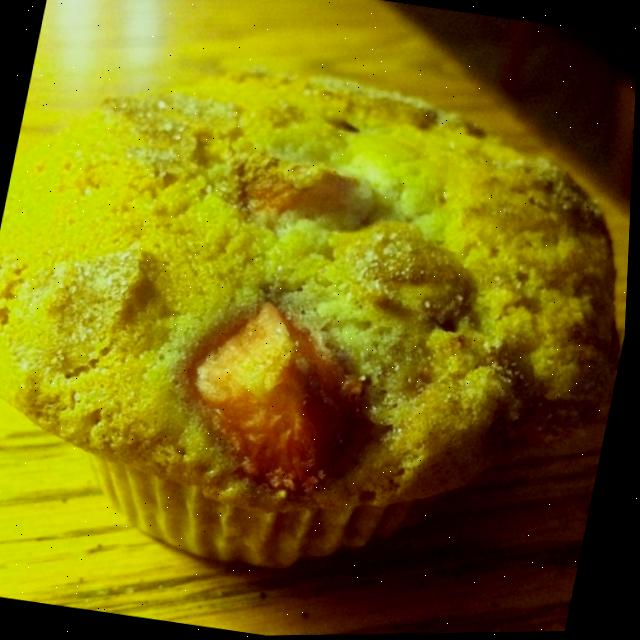炸货点心: (0, 49, 638, 640)
面包点心: (0, 49, 638, 640)
